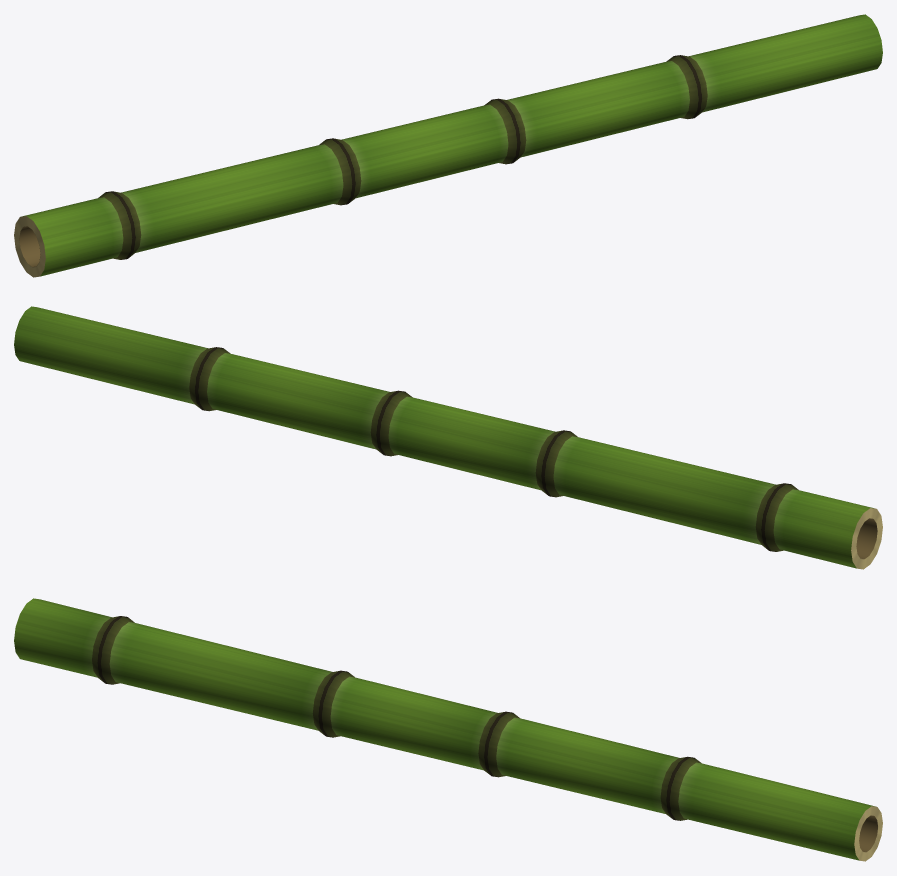
File: bamboo_long_unity.fbx
The picture shows the model from 3 angles, top to bottom: view 1: azimuth 30°, elevation 25°; view 2: azimuth 150°, elevation 25°; view 3: azimuth 330°, elevation 25°; orthographic projection.
Visible parts, largest first — view 1: Bamboo_Long; view 2: Bamboo_Long; view 3: Bamboo_Long.
Boxes of the visible parts, x1,y1,x2,y2 form: Bamboo_Long: (14,14,882,277); Bamboo_Long: (14,306,882,569); Bamboo_Long: (14,598,882,861).
Size of the model in its own units: 0.85 by 0.0611 by 0.0626.
1 material, 1 textured.
